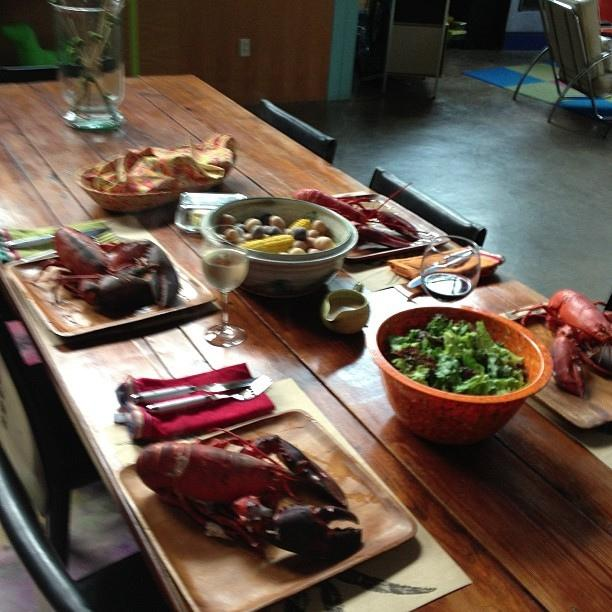corn: (236, 235, 296, 254), (288, 218, 312, 230)
